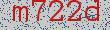2: (47, 1, 65, 26), (64, 1, 84, 23)
7: (30, 1, 48, 24)
d: (84, 1, 105, 25)
m: (8, 1, 31, 27)
